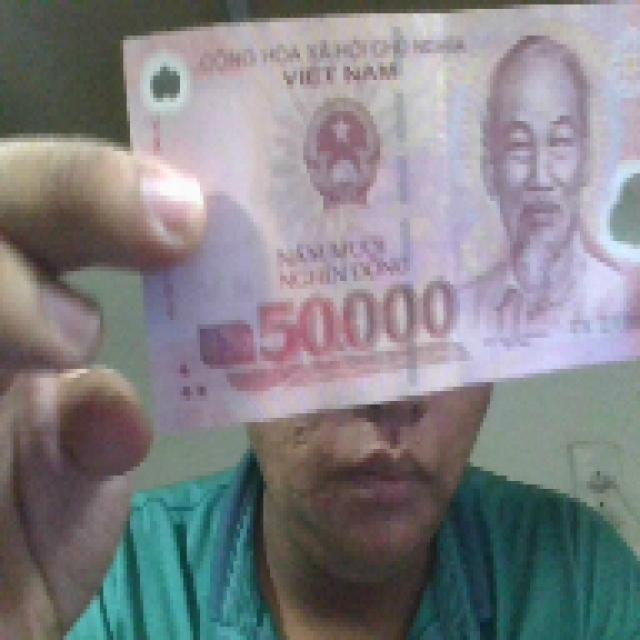50 000 VND: (116, 0, 636, 436)
